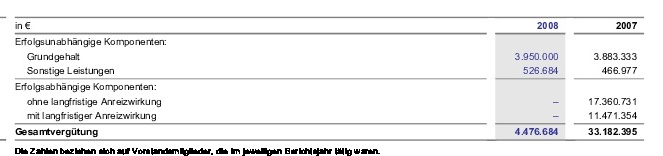table: (0, 0, 663, 156)
